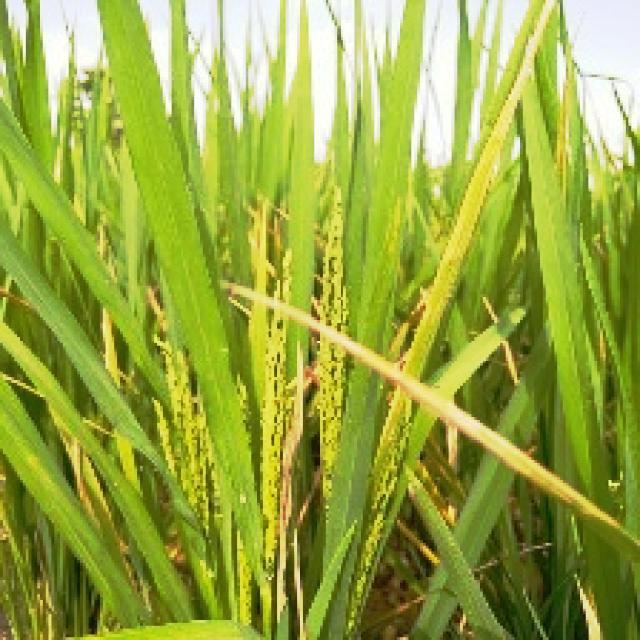unhealth: (407, 2, 550, 381)
